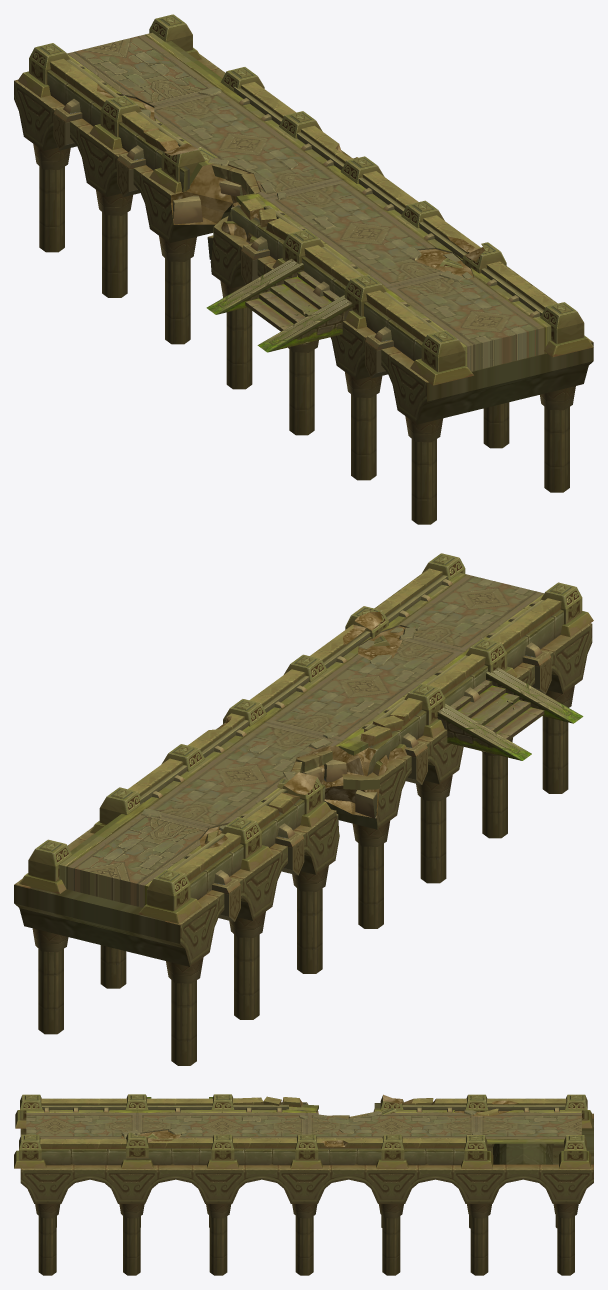
File: FB_1_qiao02.FBX
3 renders of one model, top to bottom at view 1: azimuth 30°, elevation 25°; view 2: azimuth 150°, elevation 25°; view 3: azimuth 270°, elevation 25°, orthographic. The views are drawn at different scales.
Parts seen in each view (by area): view 1: FB_1_qiao01_001, FB_1_qiao01_002, FB_1_qiao01_0021, FB_1_qiao01_003; view 2: FB_1_qiao01_001, FB_1_qiao01_002, FB_1_qiao01_0021, FB_1_qiao01_003; view 3: FB_1_qiao01_001, FB_1_qiao01_003.
Part boxes in pixels (bbox=[...]): FB_1_qiao01_001: bbox=[14, 14, 593, 524]; FB_1_qiao01_002: bbox=[206, 258, 352, 352]; FB_1_qiao01_0021: bbox=[245, 271, 339, 331]; FB_1_qiao01_003: bbox=[302, 245, 363, 296]; FB_1_qiao01_001: bbox=[14, 553, 593, 1065]; FB_1_qiao01_002: bbox=[437, 667, 583, 760]; FB_1_qiao01_0021: bbox=[450, 680, 544, 739]; FB_1_qiao01_003: bbox=[426, 654, 487, 705]; FB_1_qiao01_001: bbox=[14, 1094, 593, 1275]; FB_1_qiao01_003: bbox=[147, 1098, 212, 1109].
Bounding box in the file's own units: 50014 × 38170 × 149519.
Materials: 1 (1 with a texture image).
